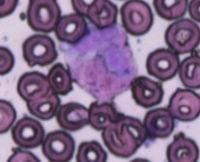E: (63, 24, 138, 102)
